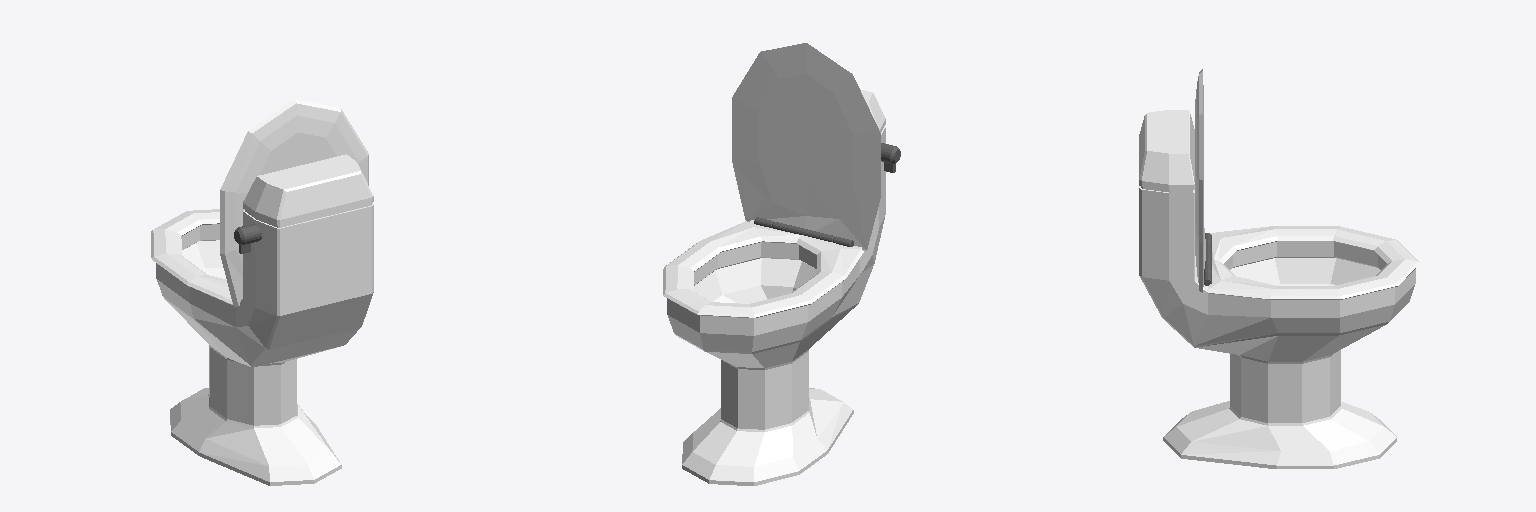
The model's file is Toilet.obj.
3 renders of one model, left to right at view 1: azimuth 30°, elevation 25°; view 2: azimuth 150°, elevation 25°; view 3: azimuth 270°, elevation 25°, orthographic.
Visible parts, largest first — view 1: Bowl_Cylinder, Cover_Cylinder.003, Inner_Cylinder.001, Flusher_Cylinder.002; view 2: Bowl_Cylinder, Cover_Cylinder.003, Inner_Cylinder.001, Hinge_Cylinder.004; view 3: Bowl_Cylinder, Inner_Cylinder.001, Cover_Cylinder.003.
Boxes of the visible parts, x1,y1,x2,y2 form: Bowl_Cylinder: [156, 154, 373, 485]; Cover_Cylinder.003: [220, 99, 368, 306]; Inner_Cylinder.001: [151, 209, 232, 304]; Flusher_Cylinder.002: [234, 224, 261, 253]; Bowl_Cylinder: [667, 89, 885, 485]; Cover_Cylinder.003: [732, 43, 880, 250]; Inner_Cylinder.001: [663, 221, 863, 317]; Hinge_Cylinder.004: [754, 217, 853, 246]; Bowl_Cylinder: [1139, 110, 1415, 468]; Inner_Cylinder.001: [1208, 226, 1419, 299]; Cover_Cylinder.003: [1195, 69, 1205, 292].
Size of the model in its own units: 2.44 by 5.78 by 3.98.